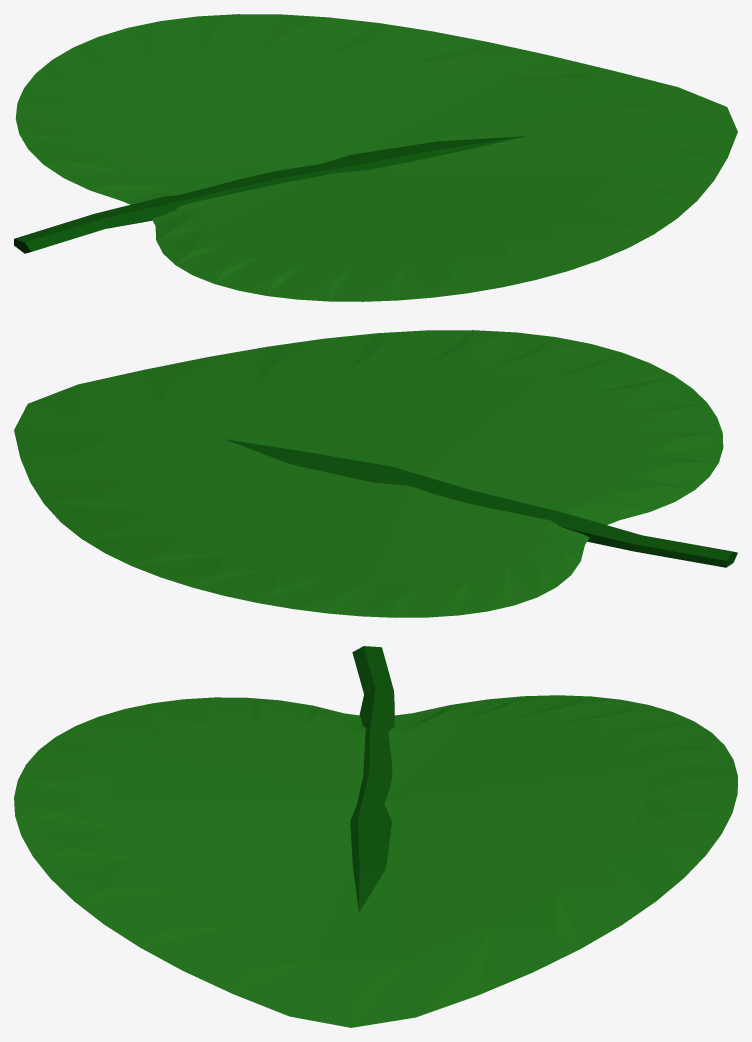
File: Leaf_02.fbx
3 views of the same model, one above another, from view 1: azimuth 30°, elevation 25°; view 2: azimuth 150°, elevation 25°; view 3: azimuth 270°, elevation 25° (orthographic). The views are drawn at different scales.
Visible parts, largest first — view 1: Leaf; view 2: Leaf; view 3: Leaf.
Boxes of the visible parts, x1,y1,x2,y2 form: Leaf: [14, 14, 737, 301]; Leaf: [14, 330, 737, 617]; Leaf: [14, 646, 737, 1027].
Bounding box in the file's own units: 1.49 × 0.0896 × 1.3.
